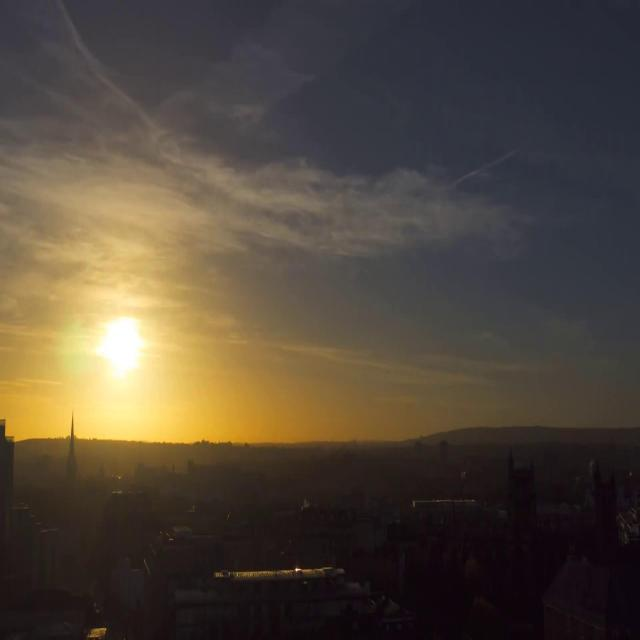Fire: (300, 498, 312, 514)
